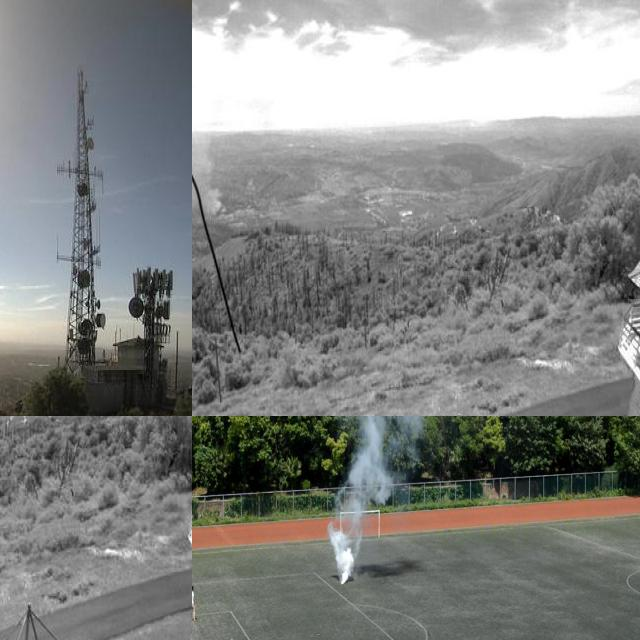smoke: (327, 416, 421, 584), (192, 113, 229, 217)
